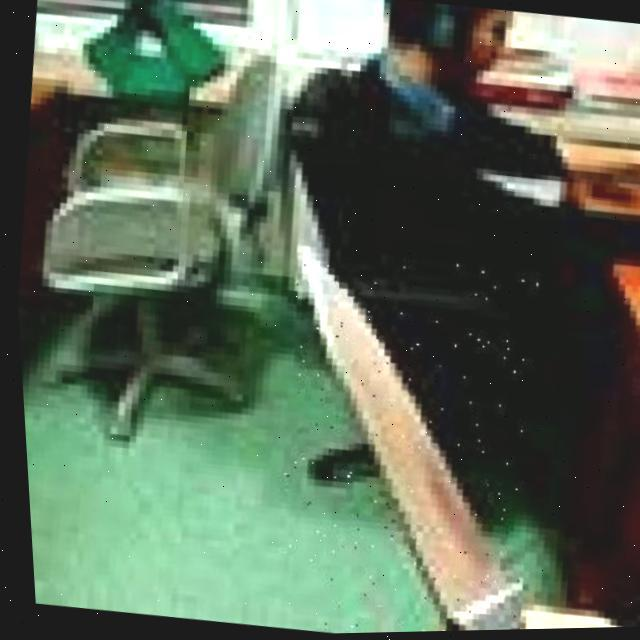knife: (250, 242, 556, 636)
